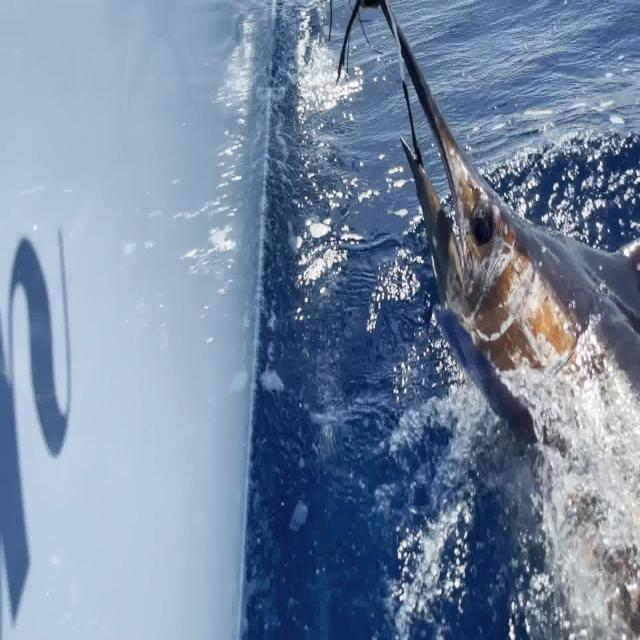Liberacion segura: (378, 1, 640, 637)
